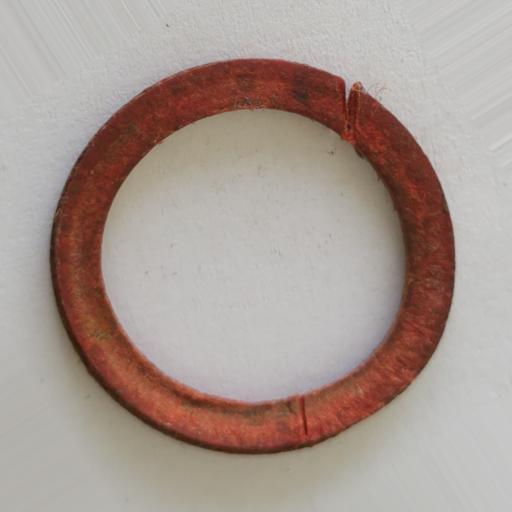defect: (337, 76, 361, 154), (297, 393, 310, 446)
